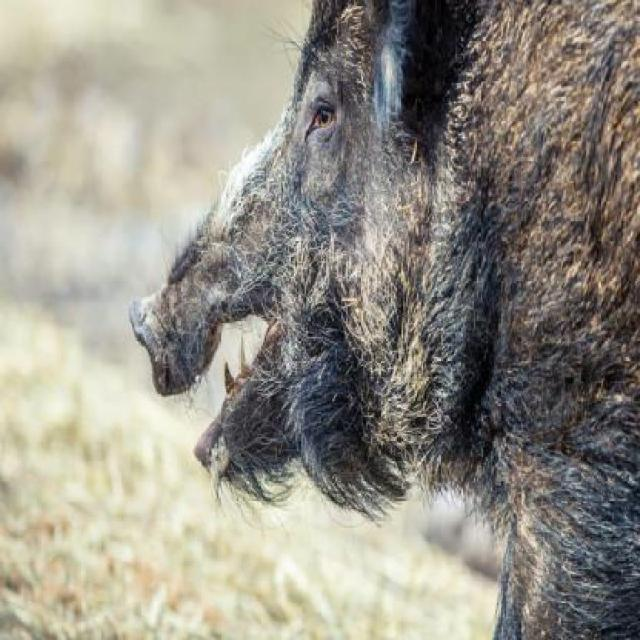wildboar: (123, 0, 640, 640)
